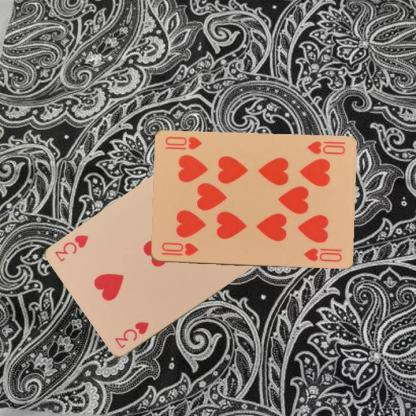10h: (158, 240, 200, 258), (305, 139, 346, 156)
3h: (112, 319, 150, 350)
